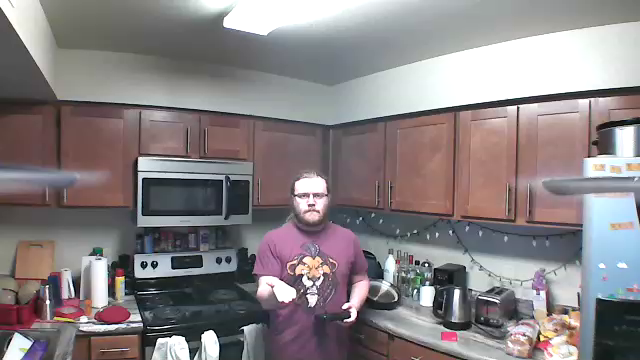land: (265, 277, 299, 305)
